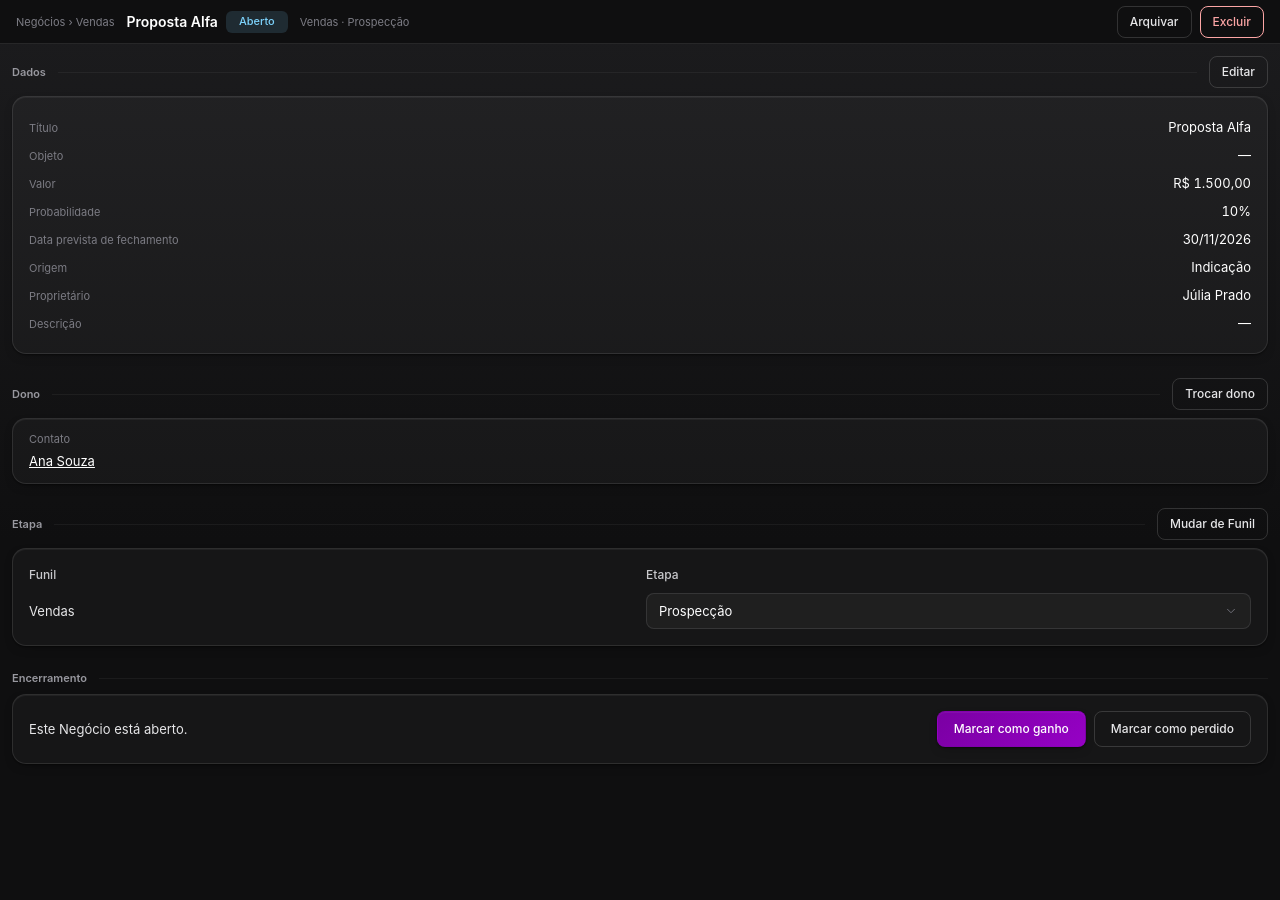
Test case: FichaDeNegocio — edição (c) › (c) editar o valor 2.500,00 envia PATCH /negocios/n1 só com { valor: "2500.00" }
Click the button "Editar".
click(1238, 72)  # box [1209,56,1268,88]
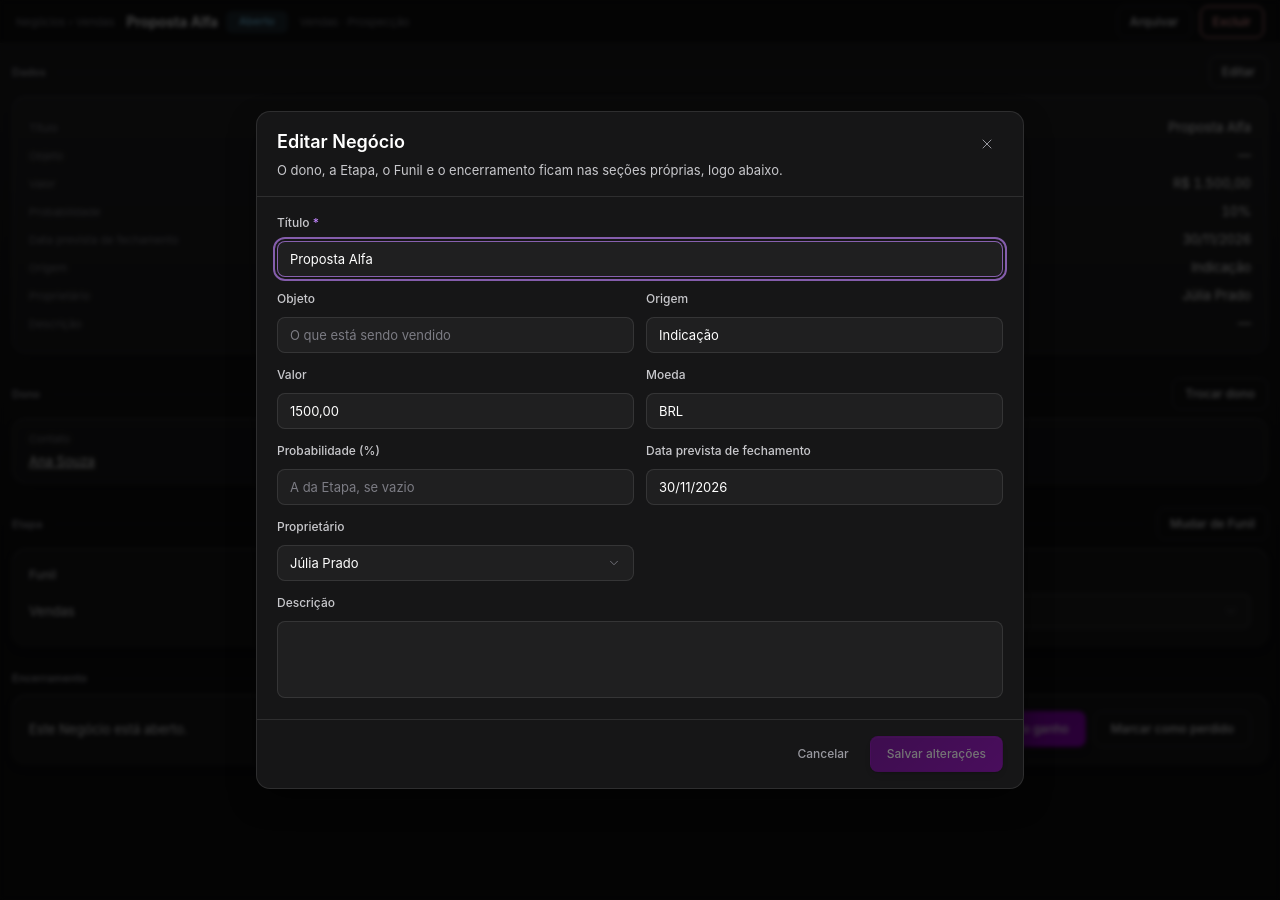
Now the field labelled "Valor" holds "1500,00"
Replace the text in the field labelled "Valor" with "2.500,00" at (456, 411), box [277,393,634,429]
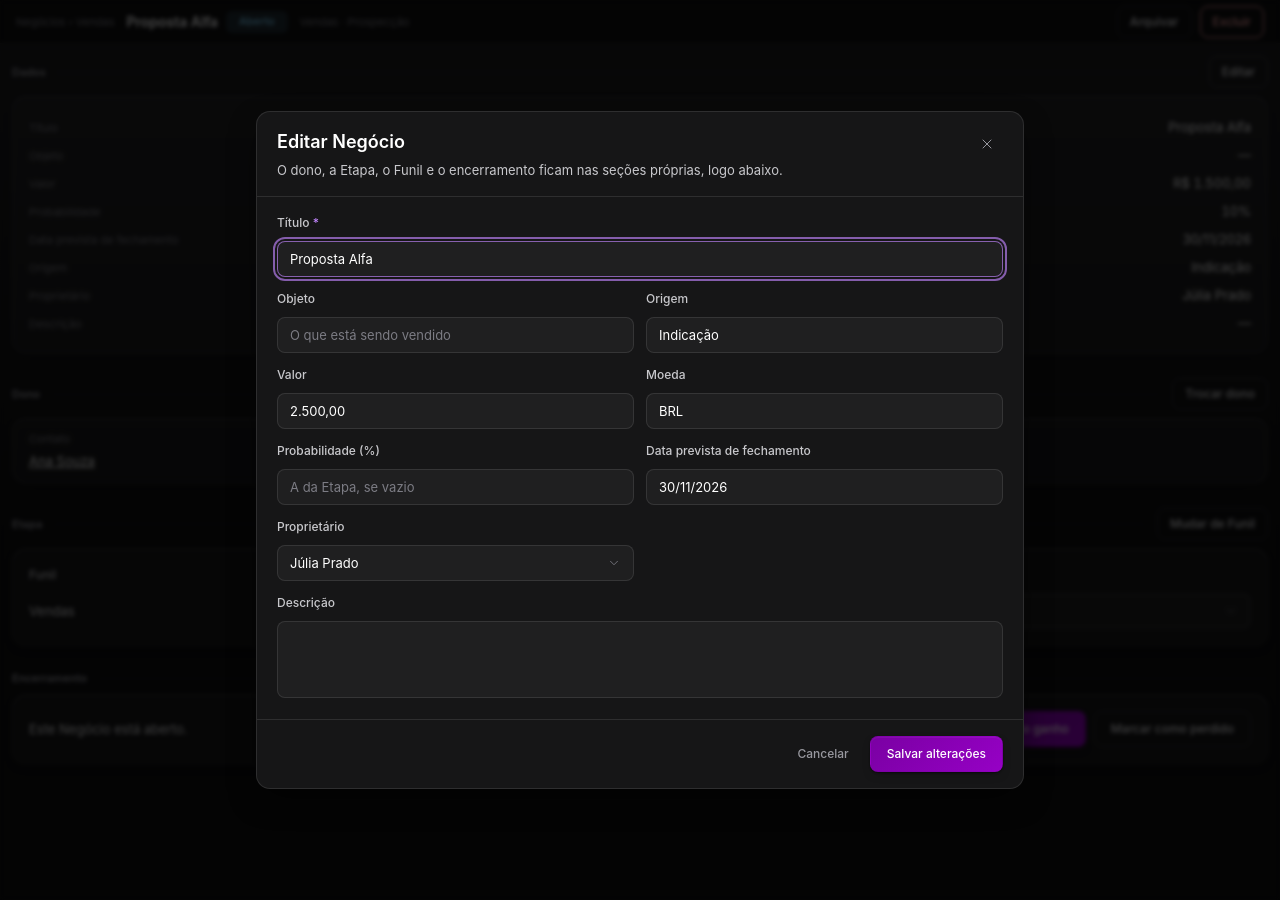
Click the button "Salvar alterações".
click(936, 754)  # box [870,736,1003,772]
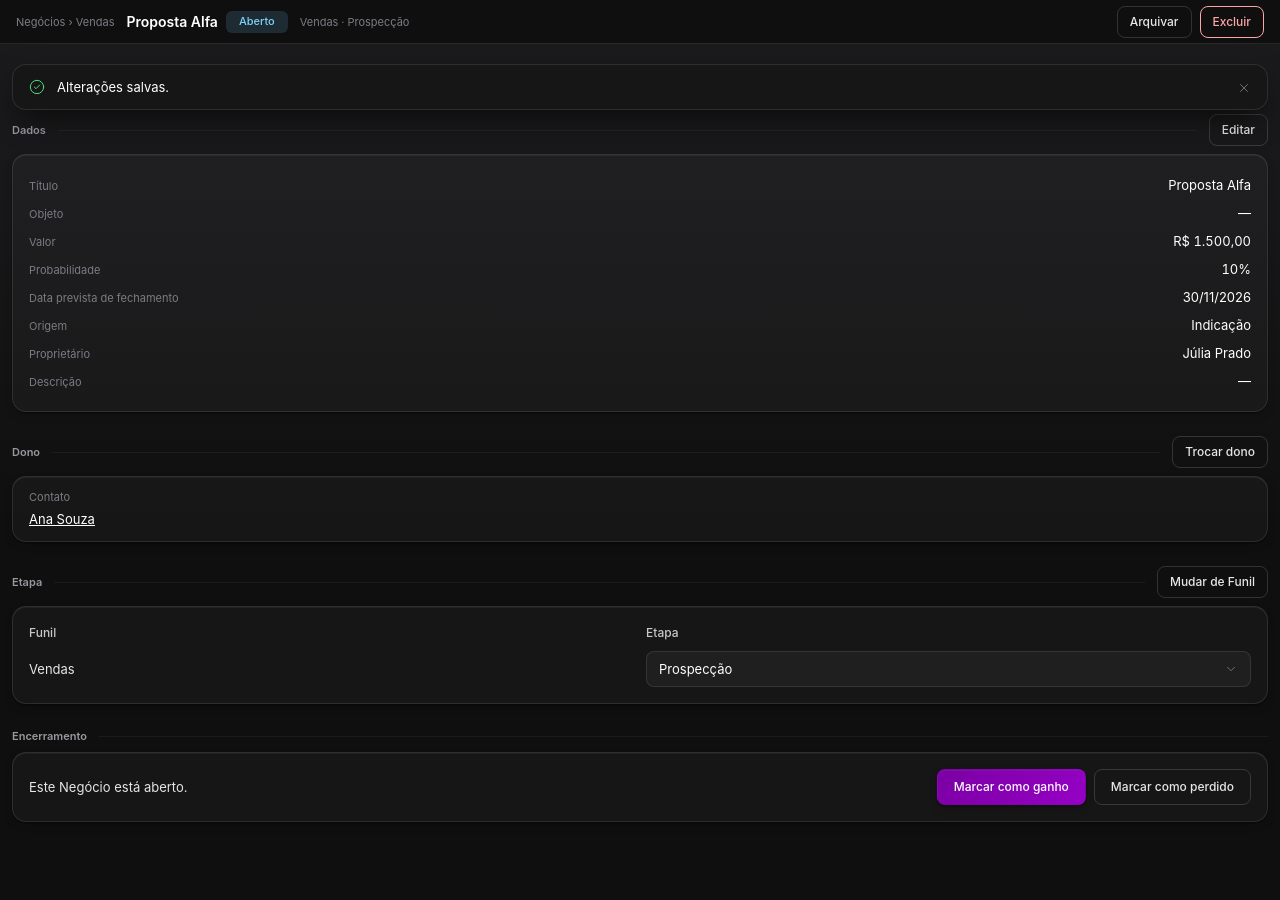
Now the text "Alterações salvas." is shown, box [57,79,169,95]
